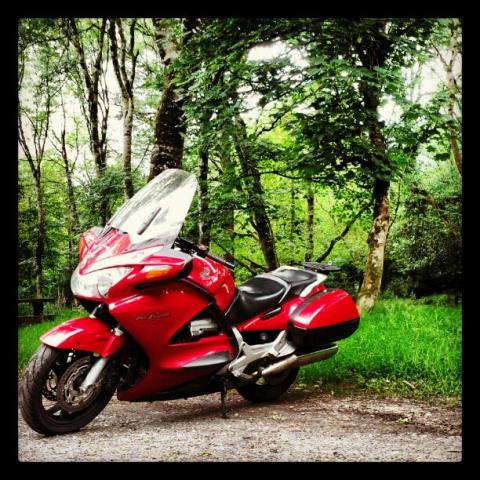motorcycle: (20, 166, 364, 436)
